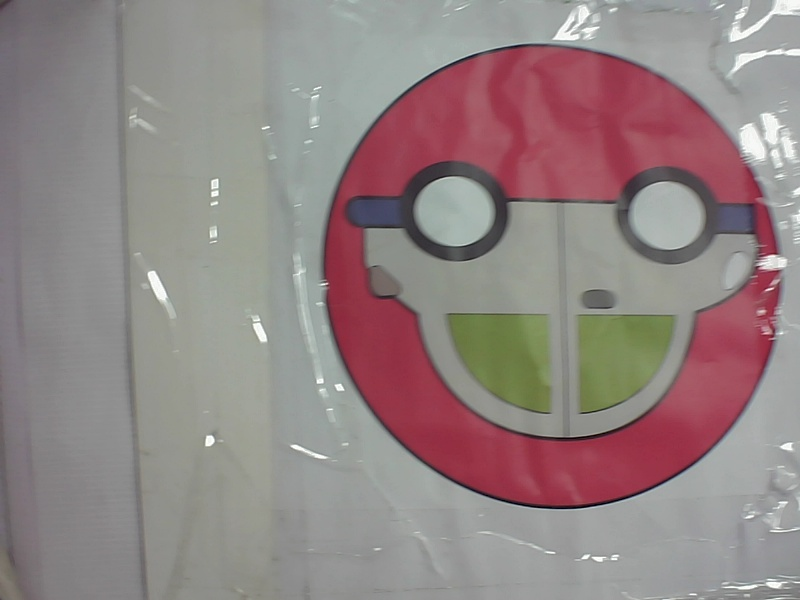areaC: (319, 35, 781, 522)
